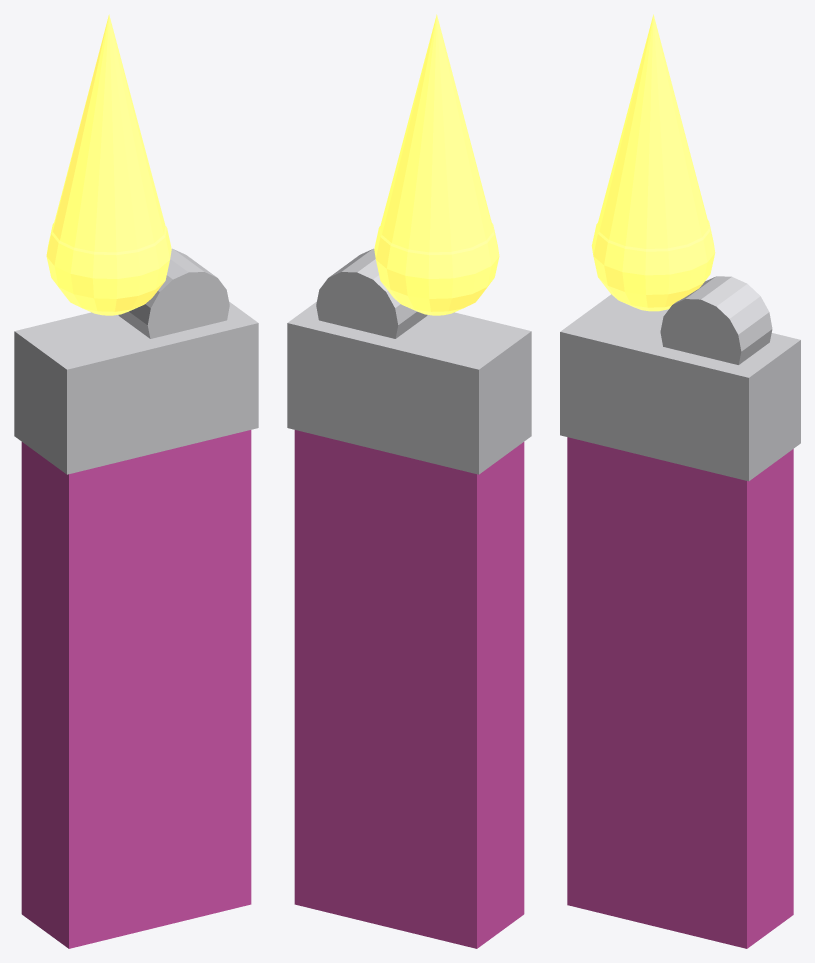
Rendered from prop_lighter_placeholder_v0.glb.
3 views of the same model, side by side, from view 1: azimuth 30°, elevation 25°; view 2: azimuth 150°, elevation 25°; view 3: azimuth 330°, elevation 25° (orthographic).
Parts seen in each view (by area): view 1: Lighter_Body, Lighter_Hood, Flame, Lighter_Wheel; view 2: Lighter_Body, Lighter_Hood, Flame, Lighter_Wheel; view 3: Lighter_Body, Lighter_Hood, Flame, Lighter_Wheel.
Boxes of the visible parts, x1,y1,x2,y2 form: Lighter_Body: [21, 430, 251, 948]; Lighter_Hood: [14, 301, 258, 474]; Flame: [46, 14, 171, 315]; Lighter_Wheel: [118, 248, 229, 338]; Lighter_Body: [294, 430, 524, 948]; Lighter_Hood: [287, 301, 531, 474]; Flame: [374, 14, 499, 315]; Lighter_Wheel: [316, 248, 427, 338]; Lighter_Body: [567, 437, 793, 948]; Lighter_Hood: [560, 294, 800, 481]; Flame: [591, 14, 715, 311]; Lighter_Wheel: [660, 276, 772, 364].
Bounding box in the file's own units: 0.042 × 0.189 × 0.024.
